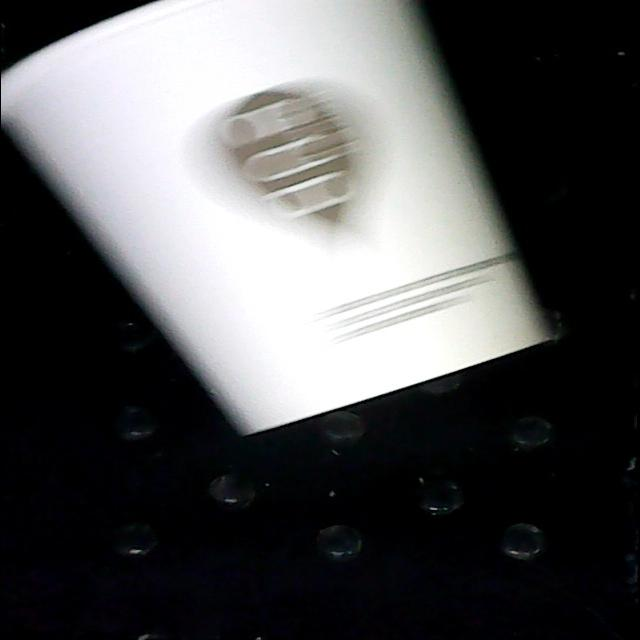-Recyclables - paper cup-: (0, 1, 553, 436)
